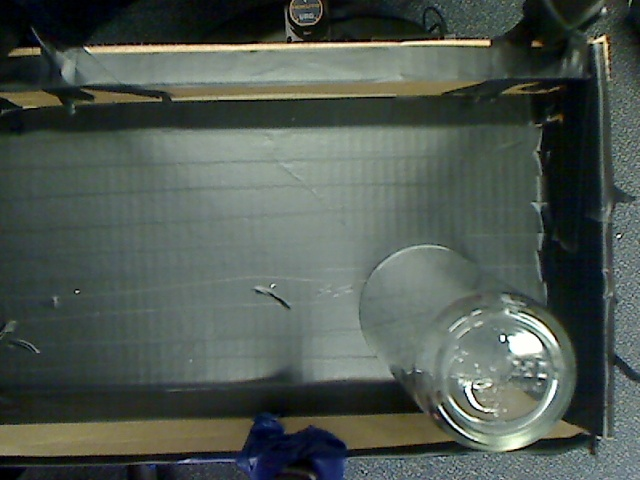cup: (347, 219, 607, 467)
